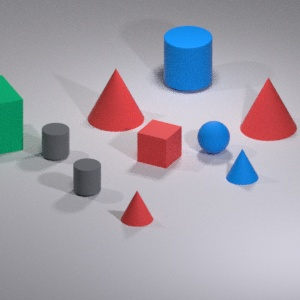lapphuong: (133, 115, 182, 172), (1, 72, 27, 157)
non: (78, 61, 145, 136), (236, 73, 298, 149), (221, 147, 266, 191), (119, 186, 163, 230)
tron: (193, 117, 230, 162)
tru: (161, 24, 215, 94), (38, 121, 73, 163), (70, 159, 102, 200)
